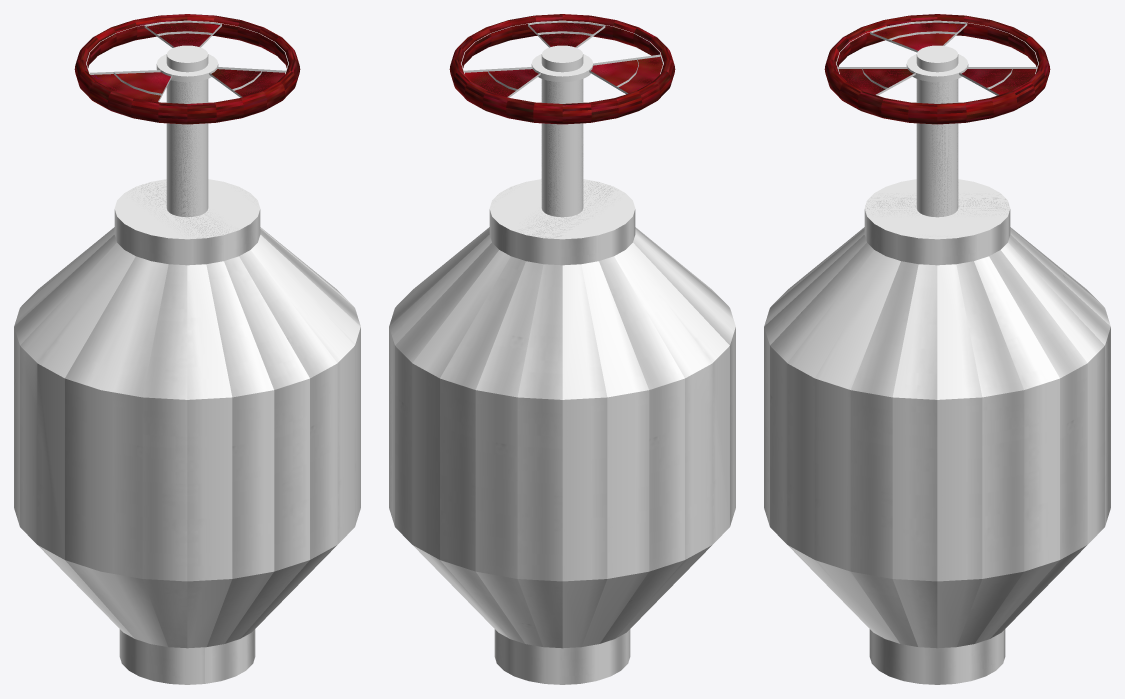
3 renders of one model, left to right at view 1: azimuth 30°, elevation 25°; view 2: azimuth 150°, elevation 25°; view 3: azimuth 270°, elevation 25°, orthographic.
Parts seen in each view (by area): view 1: SketchUp (×9); view 2: SketchUp (×9); view 3: SketchUp (×9).
Boxes of the visible parts, <box> form: SketchUp (×9): <box>14,14,360,684</box>; SketchUp (×9): <box>389,14,735,684</box>; SketchUp (×9): <box>764,14,1110,684</box>.
Bounding box in the file's own units: 3.94 × 3.94 × 7.54.
